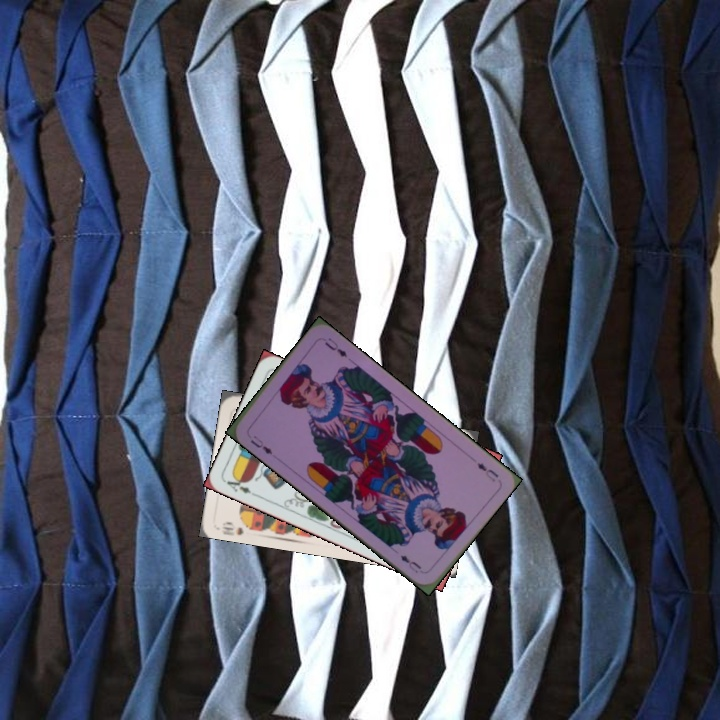EA: (222, 472, 260, 499)
EU: (243, 429, 275, 457), (473, 458, 501, 484)
S10: (218, 517, 256, 538)
